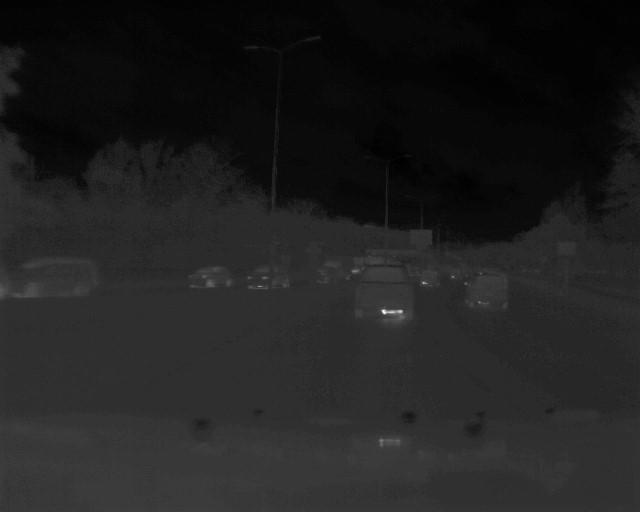car: (3, 253, 102, 302), (351, 263, 415, 323), (462, 267, 511, 314), (186, 263, 235, 294), (244, 261, 291, 291), (417, 266, 442, 289)
